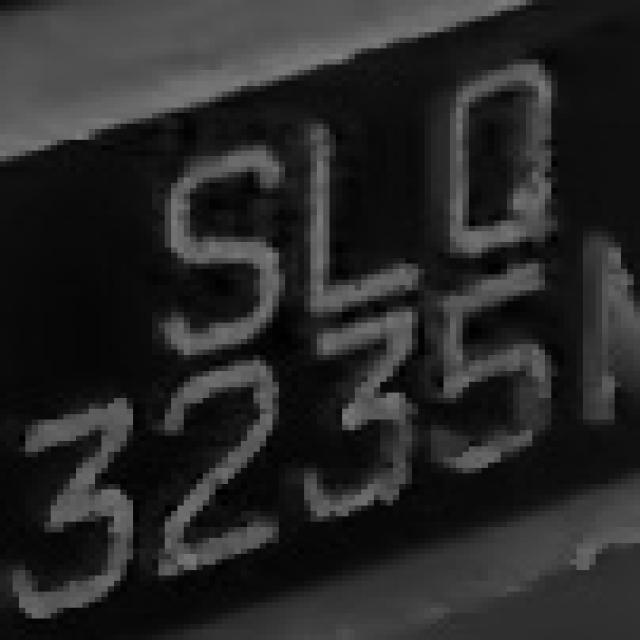2: (152, 366, 317, 570)
3: (13, 403, 158, 640), (298, 317, 437, 538)
5: (431, 280, 564, 478)
L: (278, 97, 444, 312)
Q: (437, 43, 583, 258)
S: (140, 156, 304, 360)
